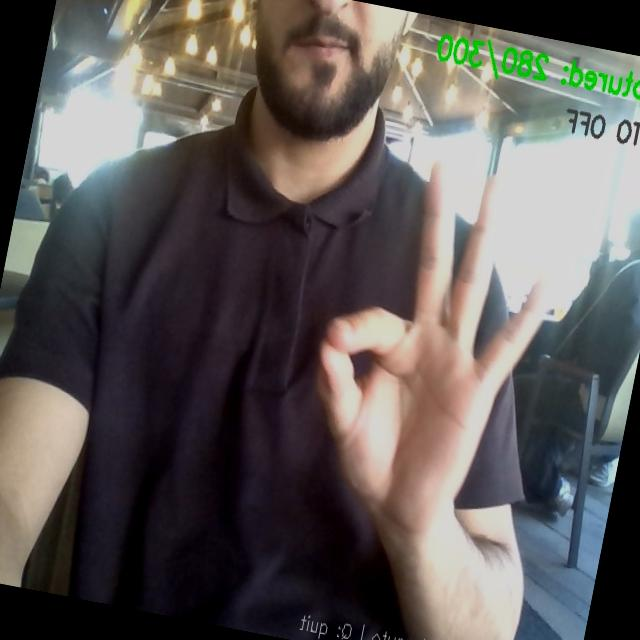Hand: (319, 166, 542, 536)
